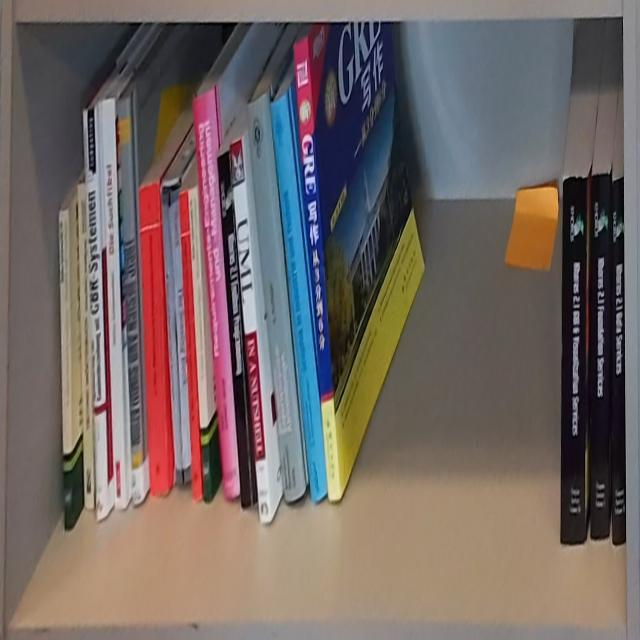Book Spine: (247, 91, 306, 503), (273, 89, 328, 503), (294, 37, 342, 503), (192, 87, 241, 501), (230, 138, 274, 526), (217, 151, 256, 510), (100, 98, 129, 509), (117, 93, 144, 507), (560, 175, 587, 545), (83, 109, 106, 519), (141, 181, 170, 496), (590, 174, 611, 542), (190, 185, 213, 502), (179, 190, 201, 500), (170, 186, 192, 484), (77, 181, 96, 513), (162, 185, 183, 484), (57, 207, 73, 533), (613, 175, 627, 546)
